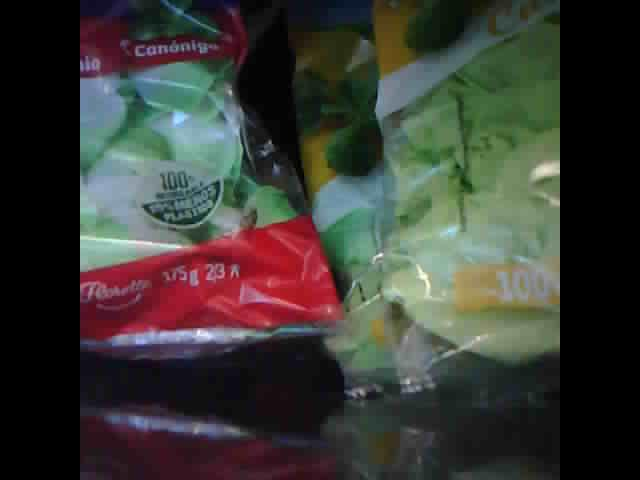florette: (291, 1, 557, 407), (81, 3, 346, 361)
